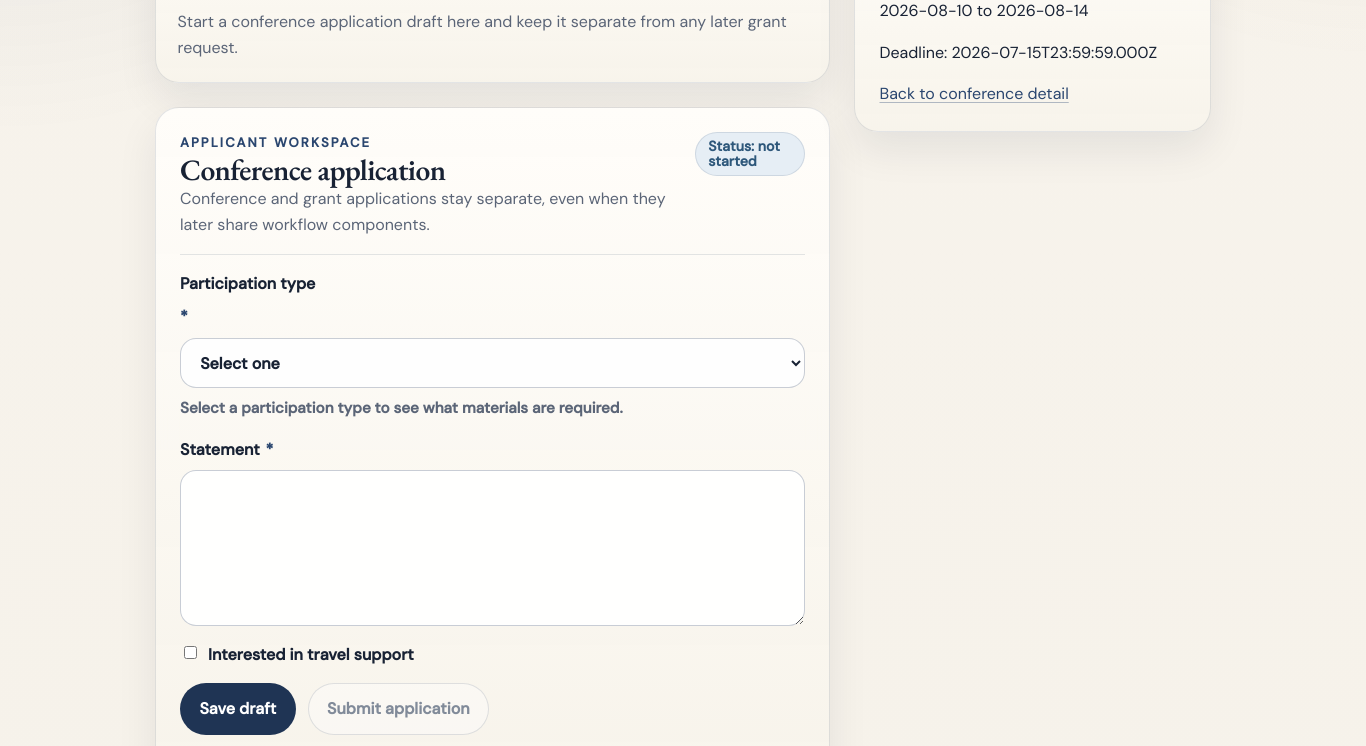
Test: conference apply page › shows only the statement requirement for participant applications
(page scrolled)
Expected: the heading "Conference application" is shown, x1=180 y1=150 x2=446 y2=189
Select "participant" in the dropdown labelled "Participation type *" at x=493, y=363, box x1=180 y1=338 x2=806 y2=388
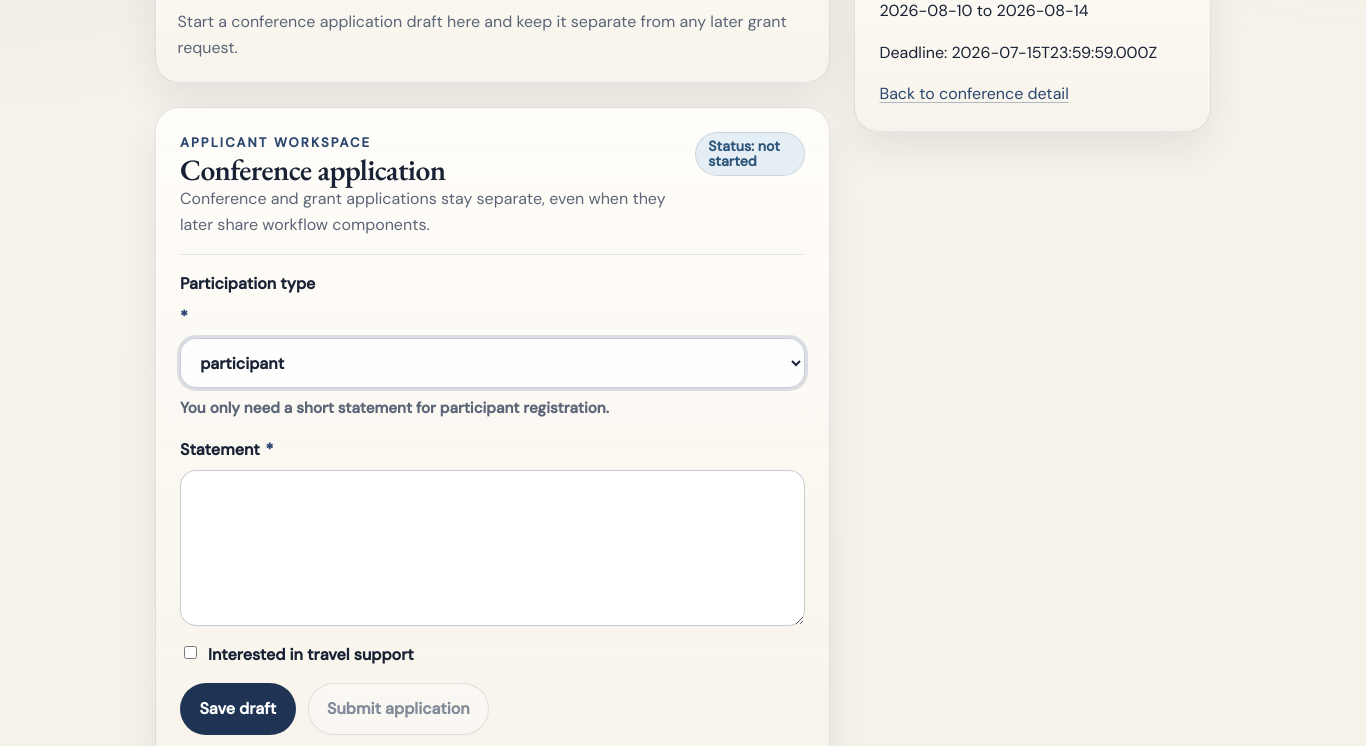
Expected: the text "You only need a short statement for participant registration" is shown, x1=180 y1=398 x2=609 y2=418
